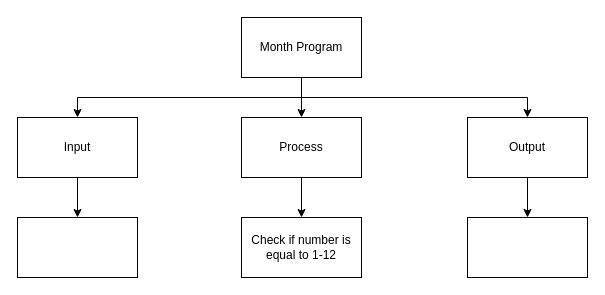
This 605x295 diagram has some shape labels left out. The box of each missing label's shape, as (x1, y1, x2, y2) in pixels:
Get number from user: (16, 216, 138, 278)
Show month that is equal to the number: (466, 216, 588, 278)
